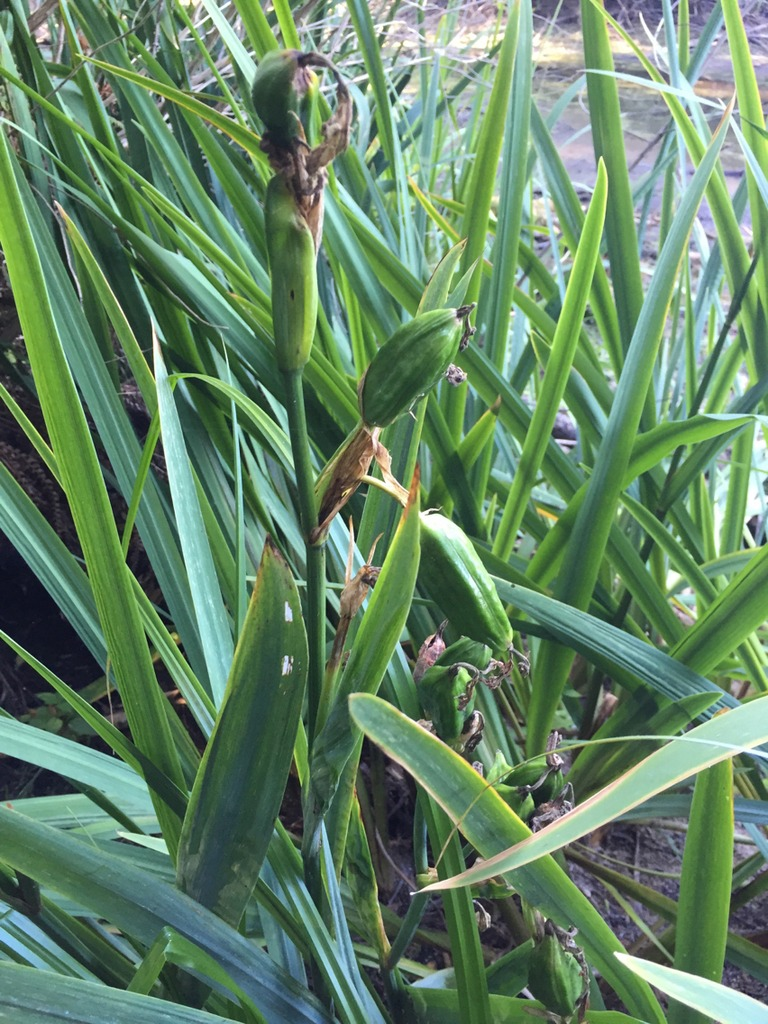yellow flag iris: (3, 5, 765, 1019)
